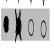correct: (3, 13, 9, 37)
no answer: (27, 14, 35, 39), (40, 15, 47, 39)
not correct: (14, 8, 22, 44)
